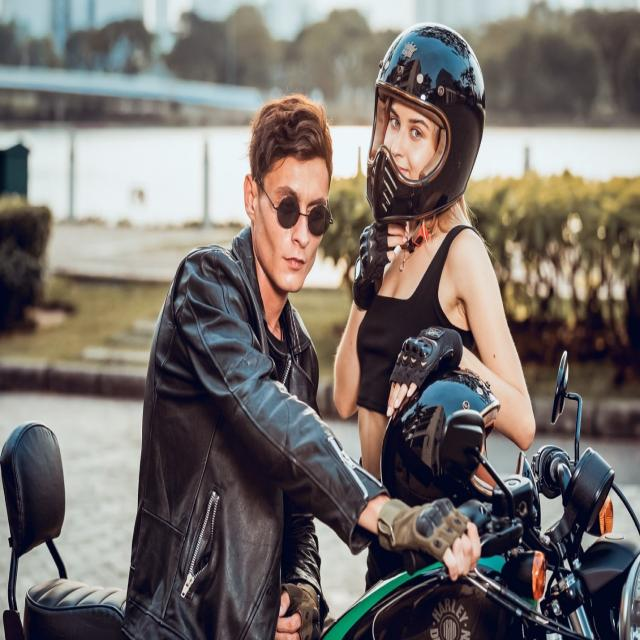Helmet: (360, 14, 490, 234)
Nonhelmet: (237, 79, 339, 308)
